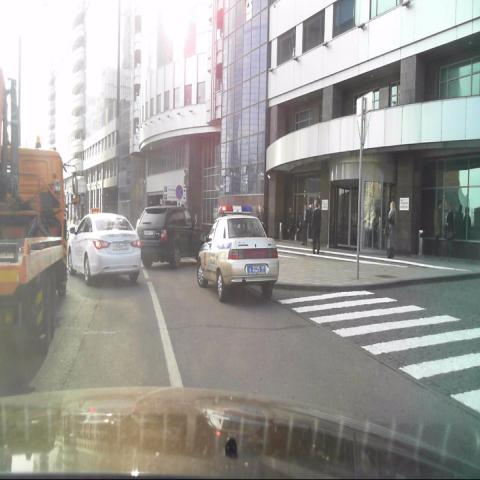3_27: (176, 186, 183, 201)
